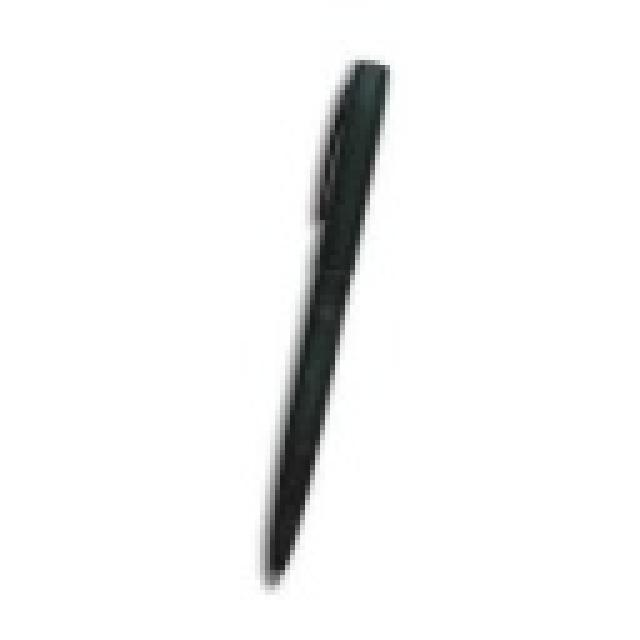pen: (252, 47, 404, 593)
